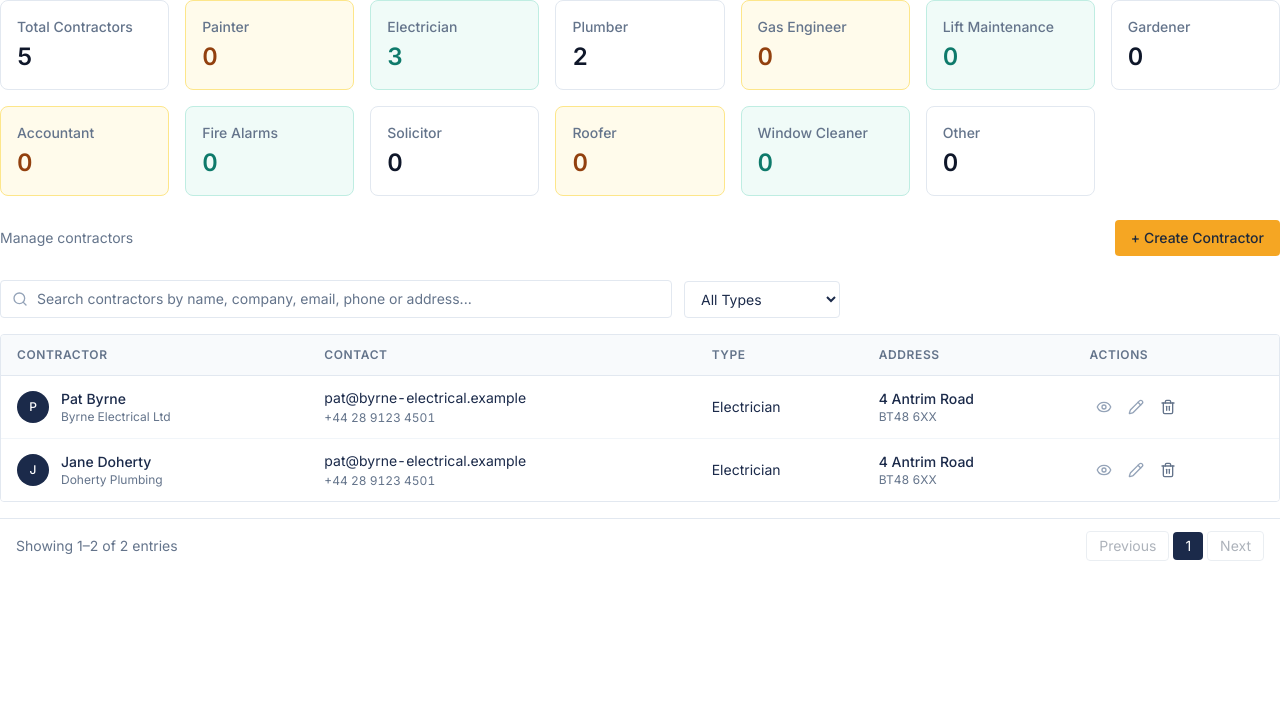
Test: ContractorsPage › disables the create submit while required fields are empty
Expected: the text "Pat Byrne" is shown, [61,390,126,407]
Click the button "+ Create Contractor". click: (1197, 238)
box: [1115,220,1279,256]
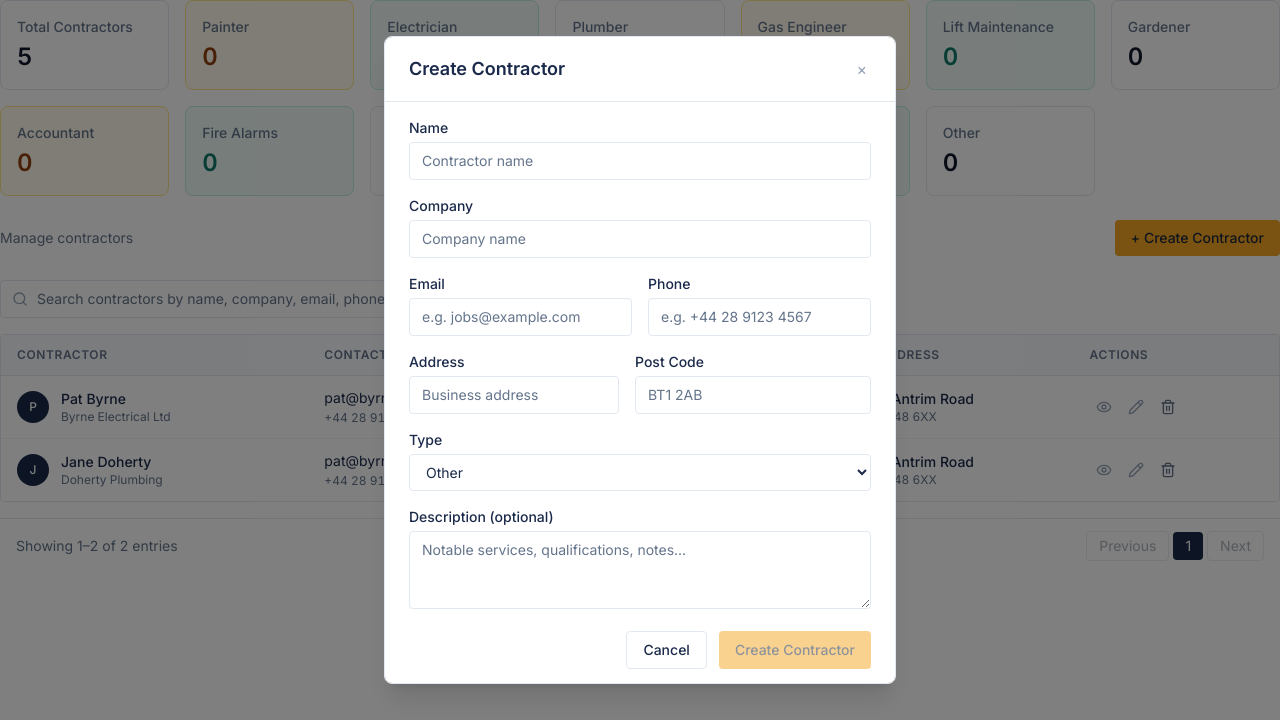
Expected: the heading "Create Contractor" is shown, [409,55,565,83]
Expected: the button "Create Contractor" is shown, [719,631,871,669]
